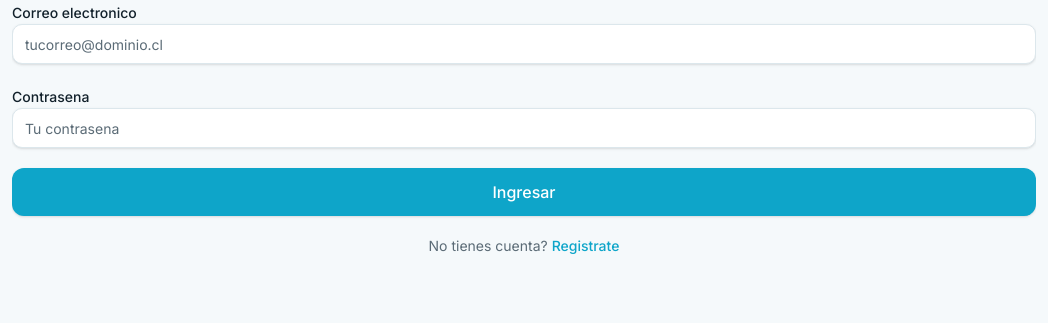
Test case: AuthForm (login) › exige email y contrasena validos antes de autenticar
The image size is (1048, 323).
Click the button "Ingresar".
click(524, 192)  # box [12, 168, 1036, 216]
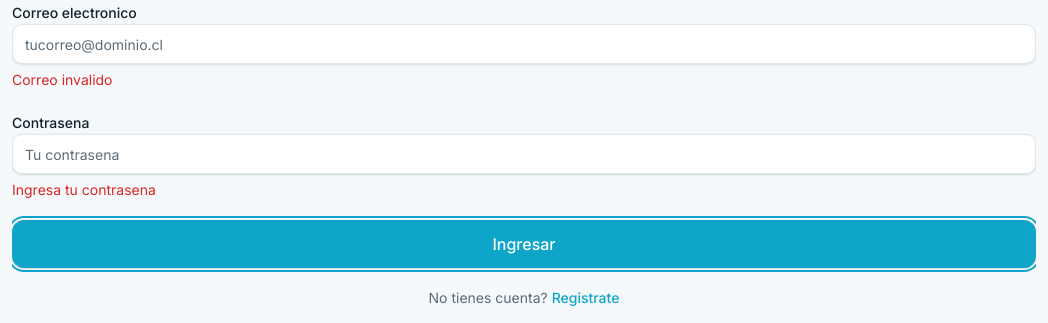
Expected: the text "Correo invalido" is shown, [12, 71, 112, 88]
Expected: the text "Ingresa tu contrasena" is shown, [12, 181, 156, 198]
